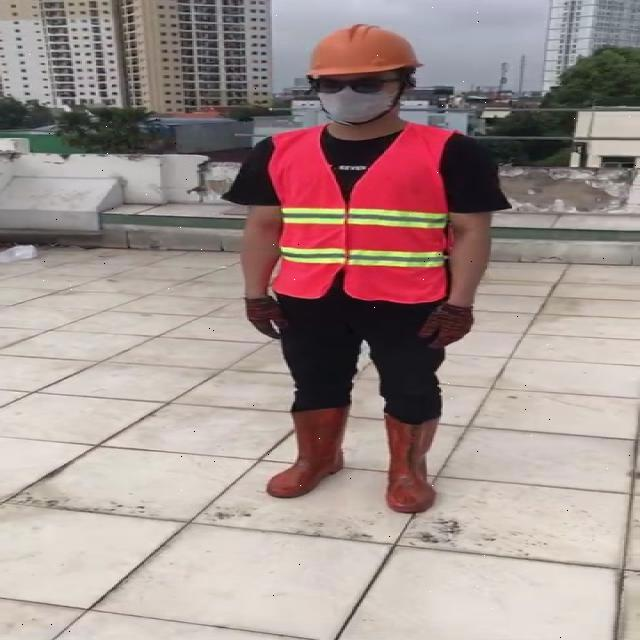Hard_hat: (298, 23, 428, 90)
Person: (226, 16, 521, 553)
Vest: (274, 123, 453, 307)
